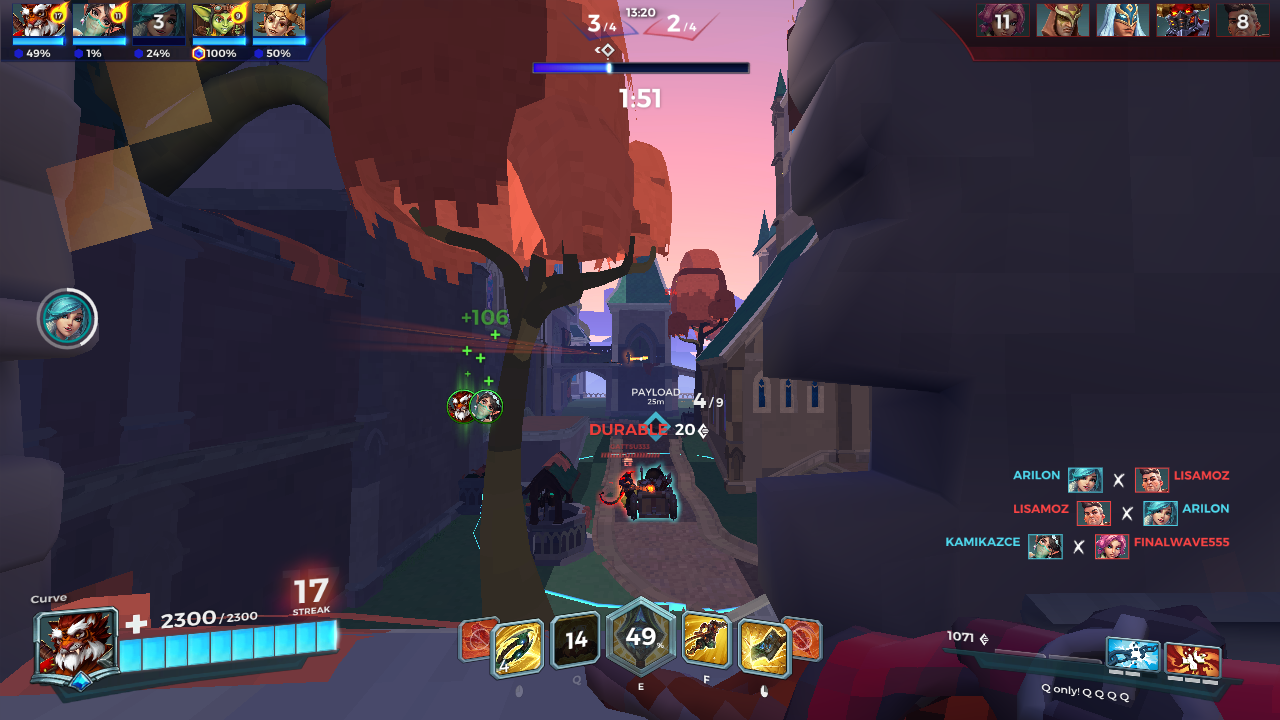model: (599, 464, 642, 512)
